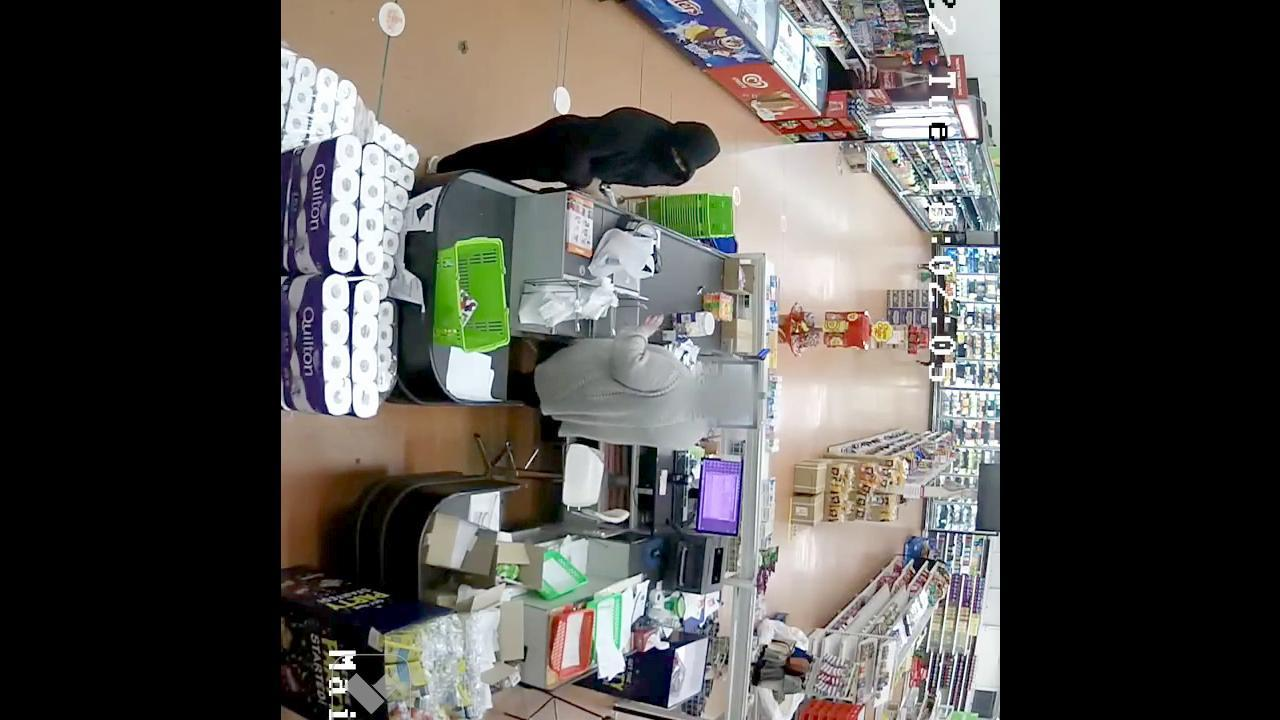gun: (595, 180, 622, 215)
